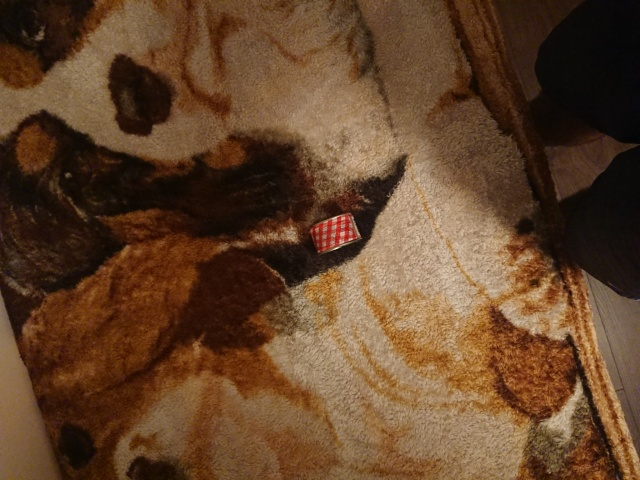Podravka Luncheon Meat 150g: (307, 210, 364, 258)
